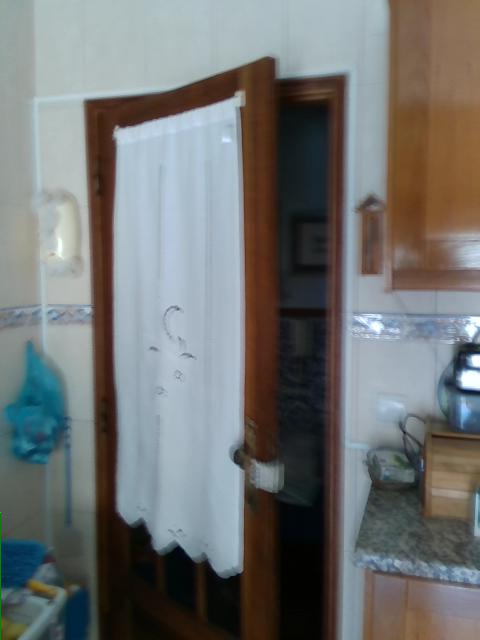semi_door: (81, 52, 350, 639)
